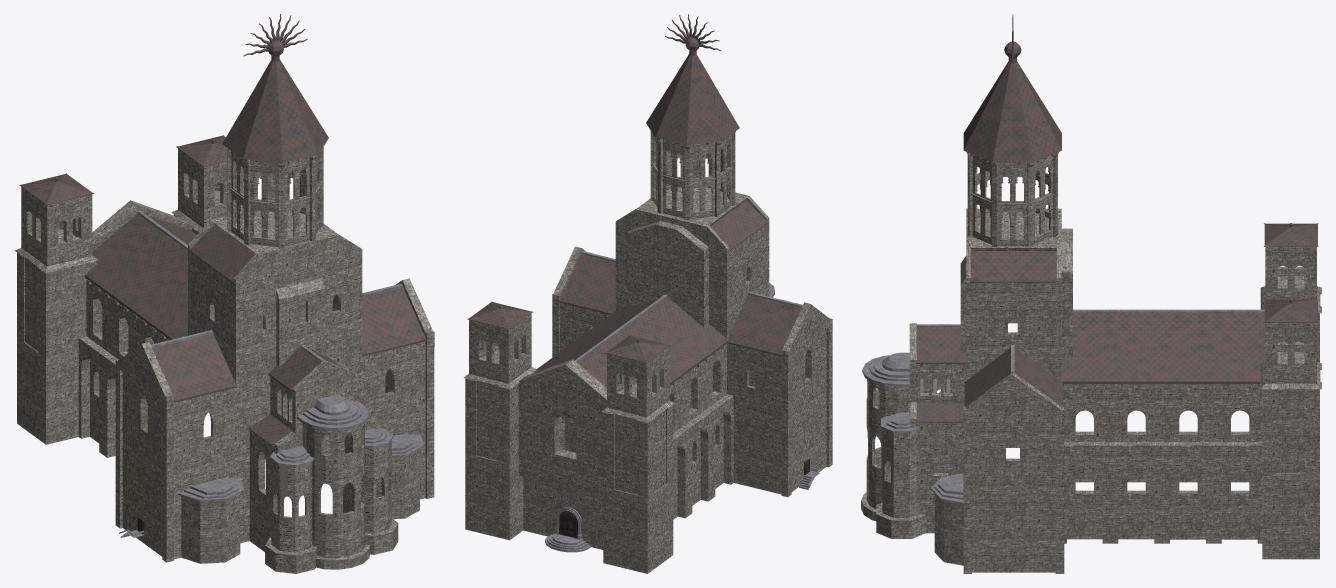
Rendered from ChurchCollision.fbx.
3 renders of one model, left to right at view 1: azimuth 30°, elevation 25°; view 2: azimuth 150°, elevation 25°; view 3: azimuth 270°, elevation 25°, orthographic. The views are drawn at different scales.
Visible parts, largest first — view 1: StoneBrickWalls_Acoustic, CopperRoof_Acoustic, StoneRoof_Acoustic, StoneBeams_Acoustic; view 2: StoneBrickWalls_Acoustic, CopperRoof_Acoustic, StoneBeams_Acoustic, FrontDoorFrame_Acoustic; view 3: StoneBrickWalls_Acoustic, CopperRoof_Acoustic, StoneRoof_Acoustic, StoneBeams_Acoustic.
Boxes of the visible parts, x1,y1,x2,y2 form: StoneBrickWalls_Acoustic: (15, 147, 434, 573); CopperRoof_Acoustic: (19, 14, 426, 447); StoneRoof_Acoustic: (177, 394, 423, 501); StoneBeams_Acoustic: (22, 148, 420, 447); StoneBrickWalls_Acoustic: (463, 131, 832, 573); CopperRoof_Acoustic: (467, 14, 801, 387); StoneBeams_Acoustic: (471, 132, 802, 385); FrontDoorFrame_Acoustic: (545, 507, 590, 552); StoneBrickWalls_Acoustic: (861, 152, 1321, 573); CopperRoof_Acoustic: (916, 14, 1318, 422); StoneRoof_Acoustic: (862, 352, 963, 504); StoneBeams_Acoustic: (916, 154, 1313, 424).
Bounding box in the file's own units: 4407 × 7511 × 6372.
Materials: 9 (9 with a texture image).
